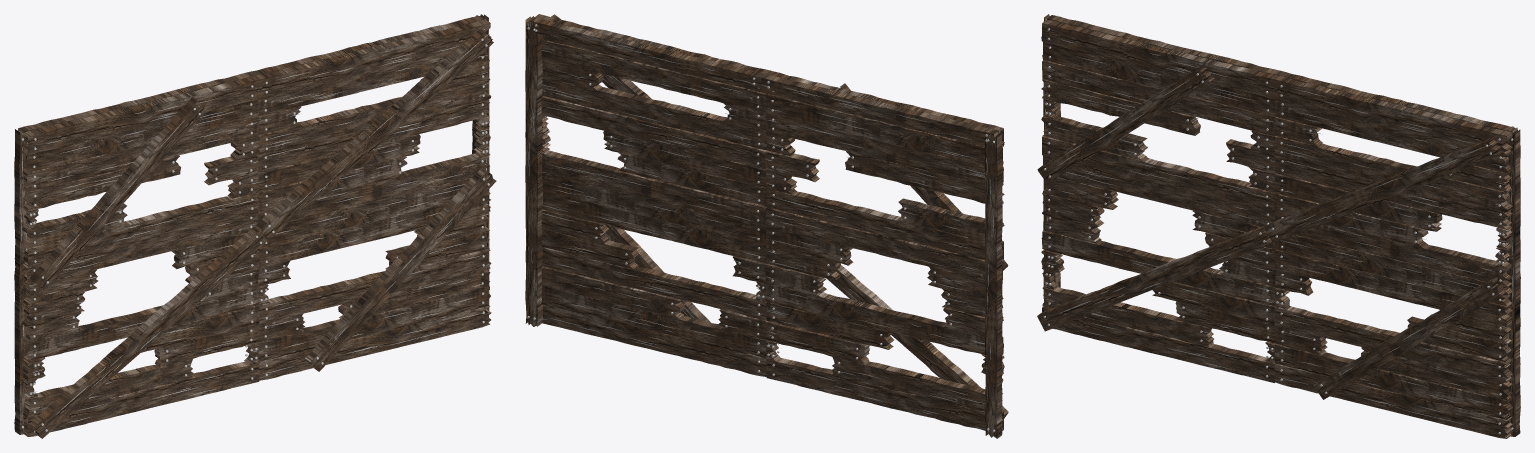
The model's file is EntranceBarricadeSource.fbx.
The picture shows the model from 3 angles, left to right: view 1: azimuth 30°, elevation 25°; view 2: azimuth 150°, elevation 25°; view 3: azimuth 330°, elevation 25°; orthographic projection.
Parts seen in each view (by area): view 1: L4, L1, R4, R3, L3, R1, R2, R0, L0, L2, LFixed, RFixed; view 2: L4, R4, R2, R0, L1, R3, L0, R1, L2, LFixed, L3, RFixed; view 3: L4, R4, R3, L1, R2, R1, R0, L3, L0, L2, RFixed, LFixed.
Part boxes in pixels (x1,y1,x2,y2): L4: (22,76,259,210); L1: (22,225,268,438); R4: (254,19,491,154); R3: (256,28,493,239); L3: (22,96,259,290); R1: (258,167,496,371); R2: (258,153,490,267); R0: (257,269,491,380); L0: (22,325,259,436); L2: (23,211,259,324); LFixed: (14,72,254,434); RFixed: (249,14,489,316); L4: (765,71,1004,203); R4: (534,14,770,150); R2: (541,150,766,263); R0: (541,266,766,376); L1: (765,264,1008,418); R3: (541,14,766,206); L0: (765,321,1003,430); R1: (541,209,766,322); L2: (765,207,1003,317); LFixed: (761,74,1002,438); L3: (765,83,1008,270); RFixed: (525,16,765,326); L4: (1041,20,1278,155); R4: (1274,75,1512,211); R3: (1265,136,1512,267); L1: (1037,209,1275,331); R2: (1274,212,1512,325); R1: (1274,269,1512,399); R0: (1274,325,1512,438); L3: (1037,63,1275,211); L0: (1042,269,1275,382); L2: (1042,155,1275,268); RFixed: (1279,71,1520,436); LFixed: (1043,14,1283,301).
Size of the model in its own units: 716 by 443 by 44.3.
Materials: 3 (1 with a texture image).
